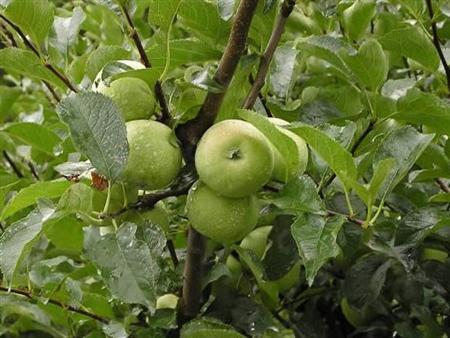apple: (195, 119, 280, 196), (186, 182, 261, 244), (117, 119, 183, 189), (106, 75, 155, 125)
